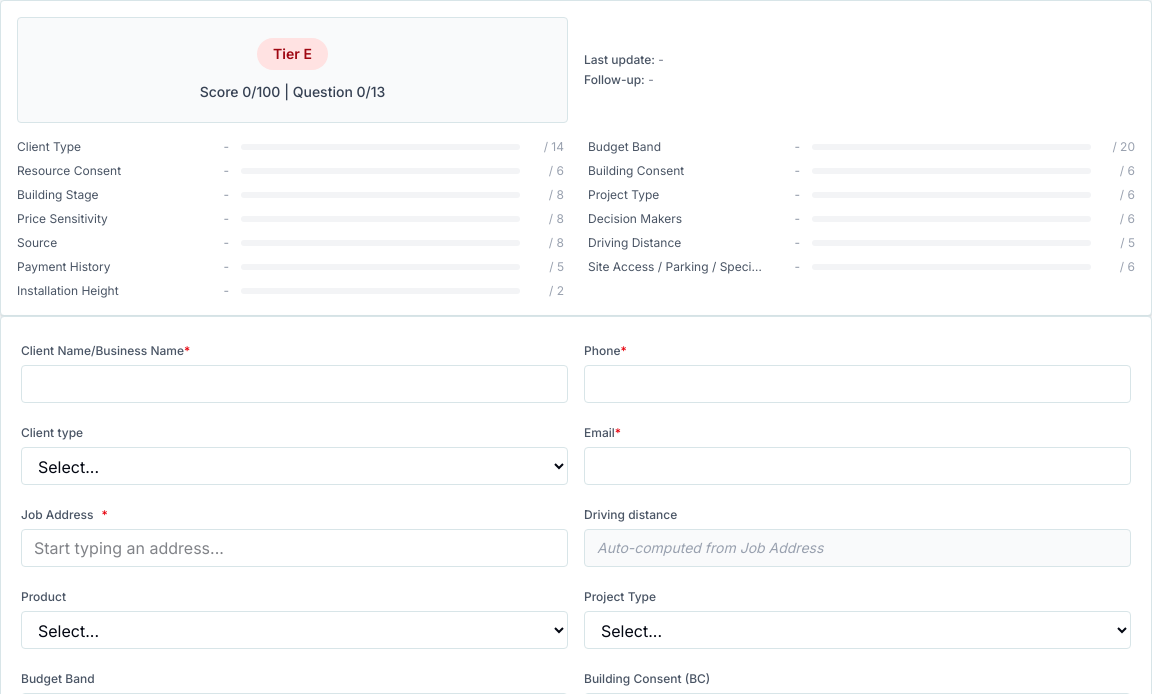
Scenario: LeadIntakeForm › computes distance when a pasted job address is manually committed
Type "22 Queen Street, Auckland" into the field labelled "Job Address" at (294, 548), box x1=21 y1=529 x2=568 y2=567
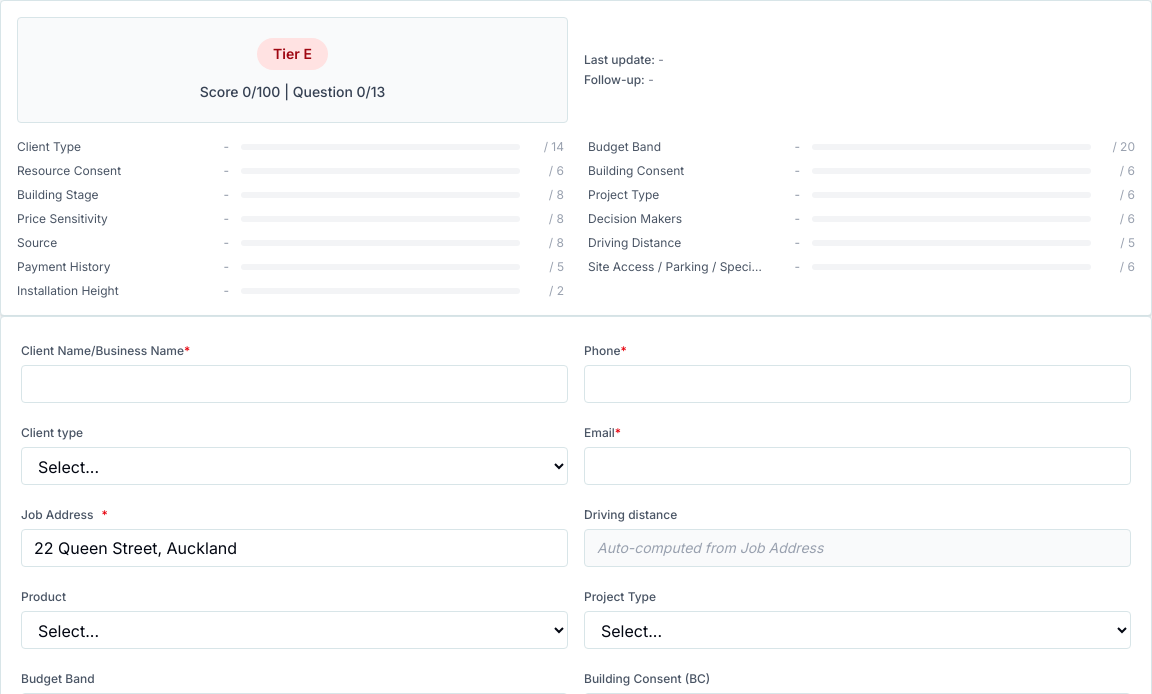
Leave the field labelled "Job Address", box x1=21 y1=529 x2=568 y2=567
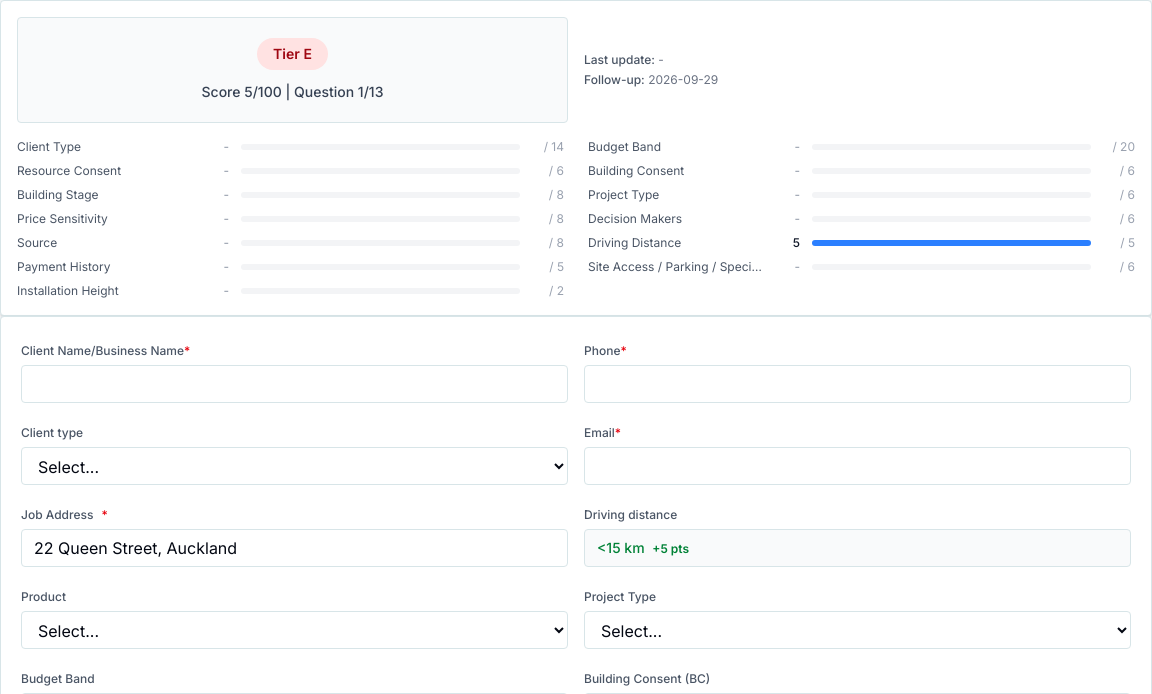
Expected: the text "<15 km" is shown, x1=597 y1=539 x2=645 y2=556
